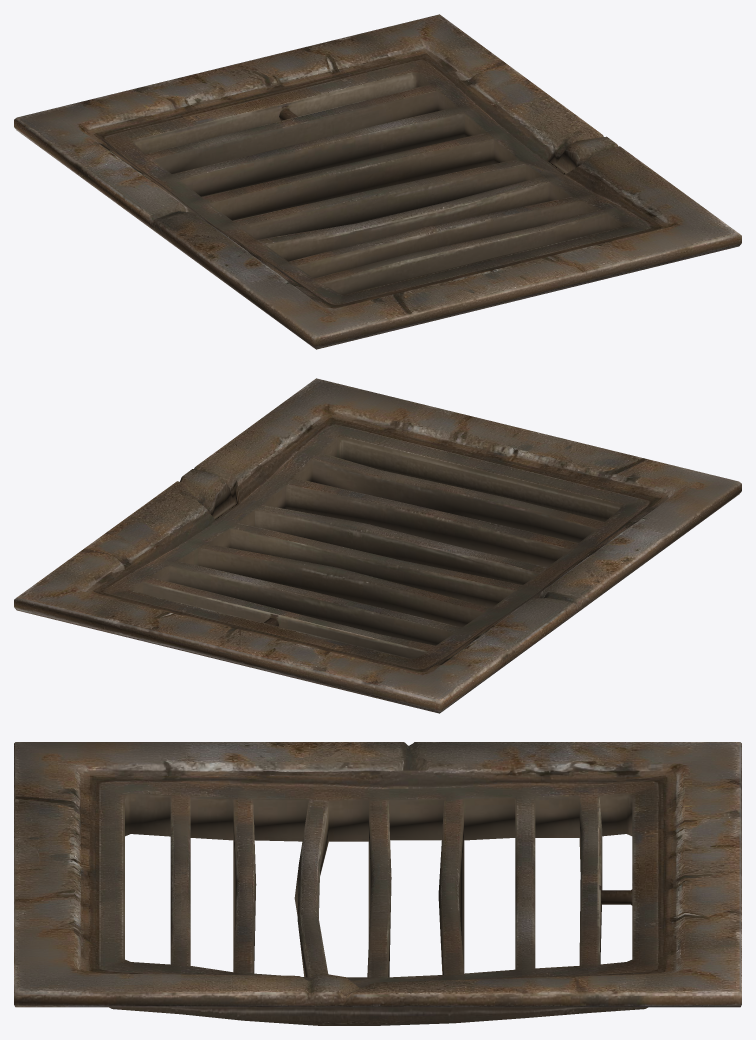
The model's file is Grate.fbx.
3 views of the same model, one above another, from view 1: azimuth 30°, elevation 25°; view 2: azimuth 150°, elevation 25°; view 3: azimuth 270°, elevation 25° (orthographic). The views are drawn at different scales.
Visible parts, largest first — view 1: tripo_node_bbeab4a9-4532-4ddf-a53f-6818f3f39f95; view 2: tripo_node_bbeab4a9-4532-4ddf-a53f-6818f3f39f95; view 3: tripo_node_bbeab4a9-4532-4ddf-a53f-6818f3f39f95.
Part boxes in pixels (x1,y1,x2,y2): tripo_node_bbeab4a9-4532-4ddf-a53f-6818f3f39f95: (14,14,741,349); tripo_node_bbeab4a9-4532-4ddf-a53f-6818f3f39f95: (14,378,741,713); tripo_node_bbeab4a9-4532-4ddf-a53f-6818f3f39f95: (14,742,741,1025).
Size of the model in its own units: 81.84 by 10.35 by 99.8.
Materials: 1 (1 with a texture image).
